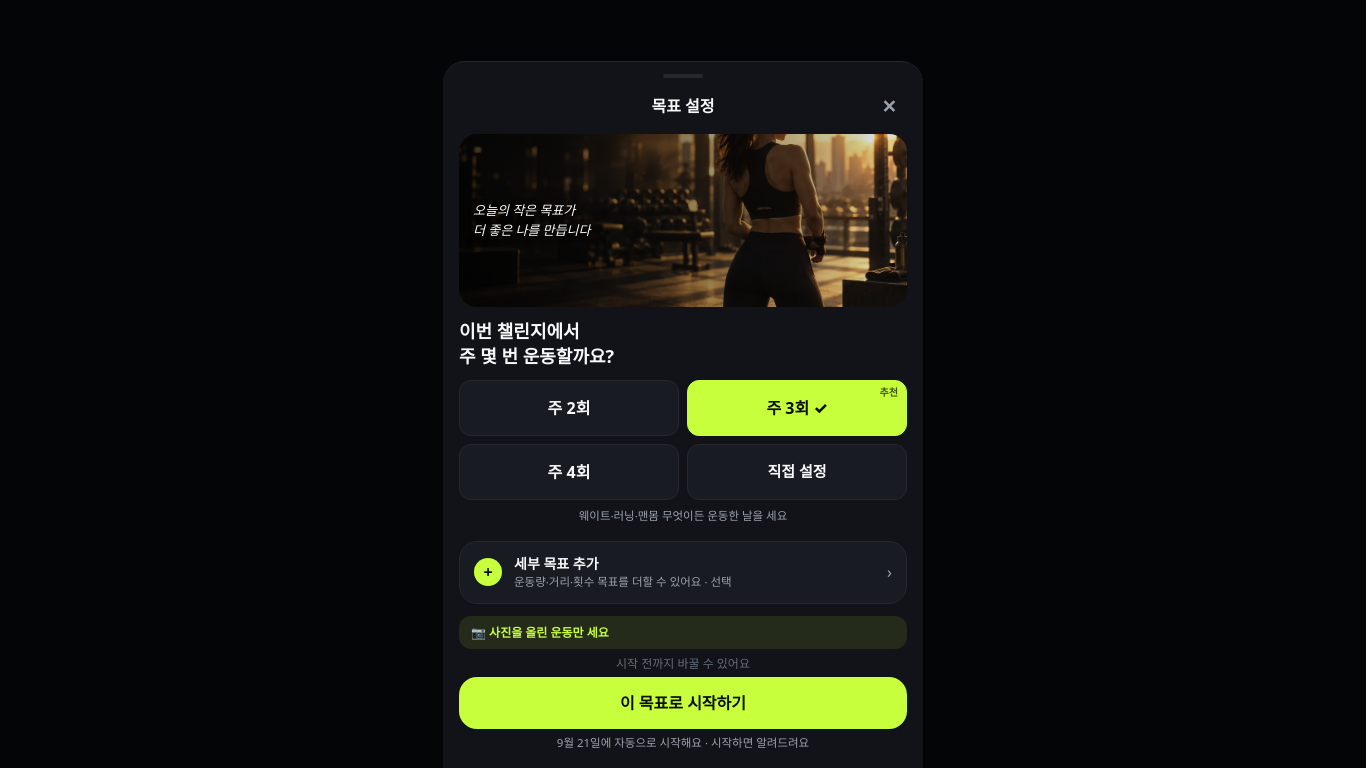
Test case: 진행 예시 — 시안 ④ (2026-09-18 추가) › 세부 목표를 더해 확인 화면으로 와도 보인다
The width and height of the screenshot is (1366, 768).
Expected: the text "진행 예시" is not shown
What coordinates should you click on to do the following:
click the button "+ 세부 목표 추가 운동량·거리·횟수 목표를 더할 수 있어요 · 선택 ›"
I would click on:
 (683, 572)
Its box is x1=459 y1=541 x2=907 y2=604.
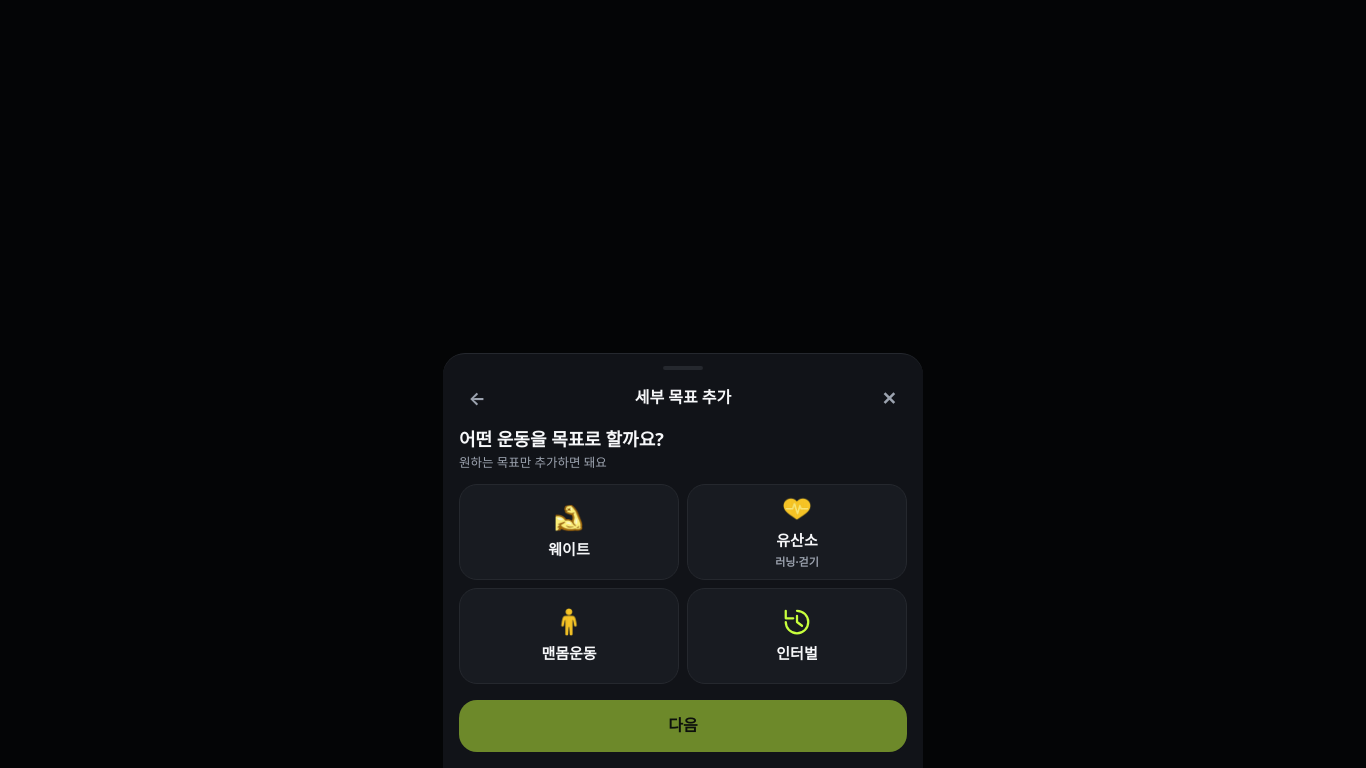
What coordinates should you click on to do the following:
click the radio button labelled "유산소 러닝·걷기"
I would click on:
 (797, 532)
Its box is x1=687 y1=484 x2=907 y2=580.
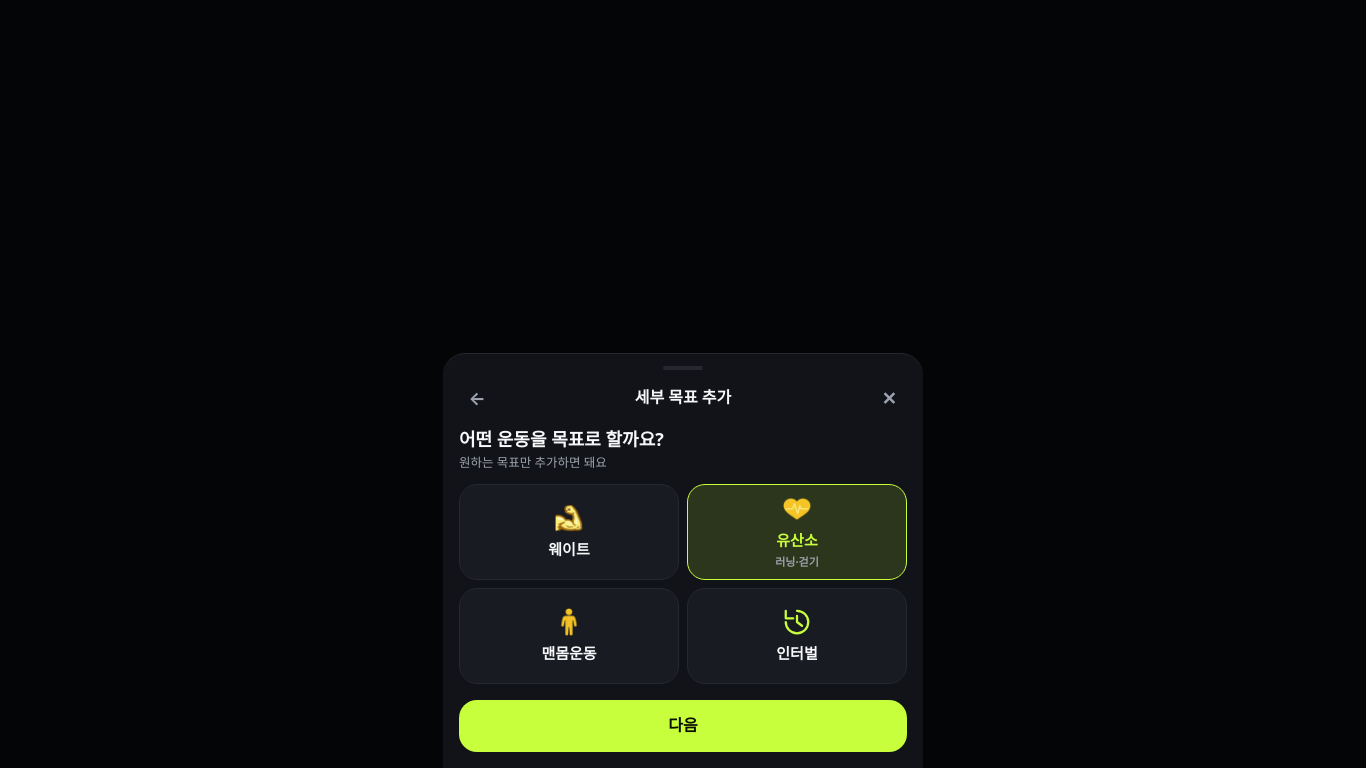
What coordinates should you click on to do the following:
click the button "다음"
I would click on:
 (683, 726)
Its box is x1=459 y1=700 x2=907 y2=752.
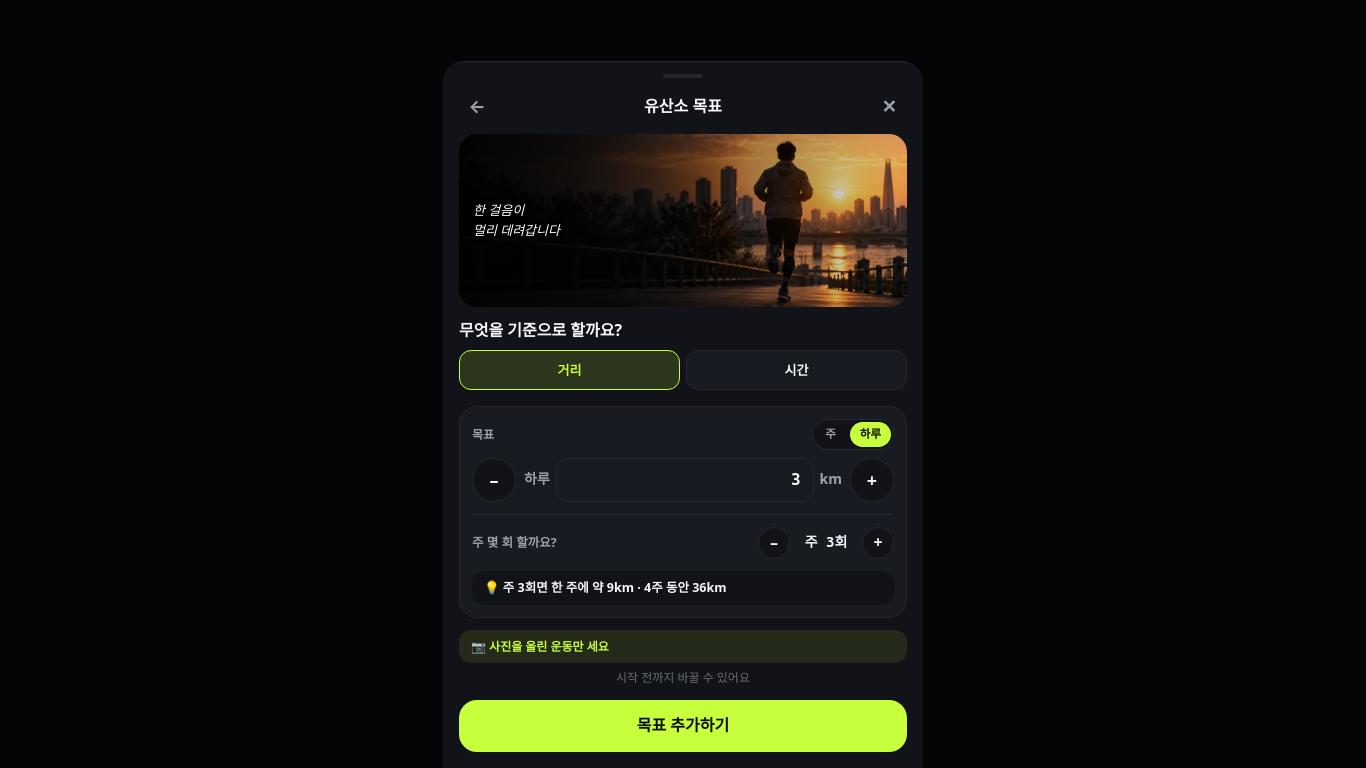
What coordinates should you click on to do the following:
click the button "목표 추가하기"
I would click on:
 (683, 726)
Its box is x1=459 y1=700 x2=907 y2=752.
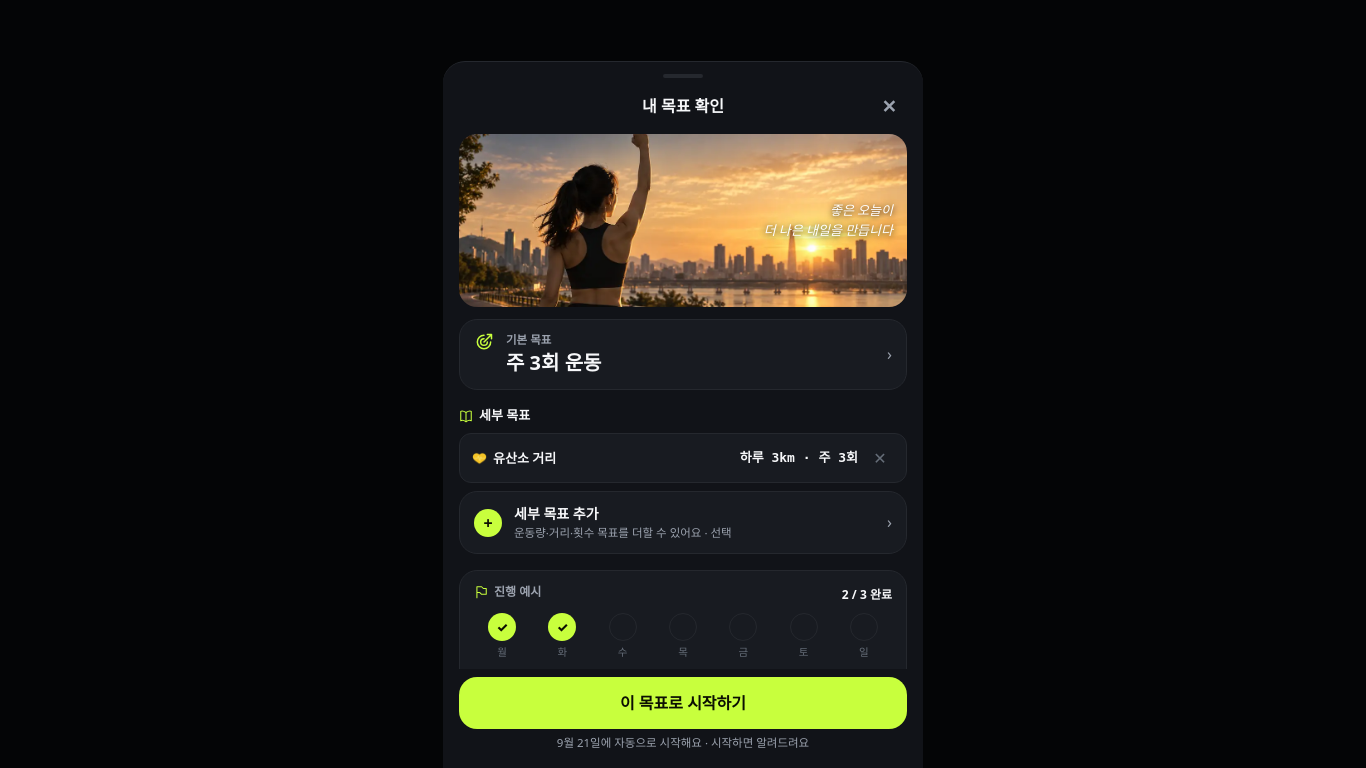
Expected: the text "2 / 3 완료" is shown, x1=842 y1=586 x2=892 y2=603
